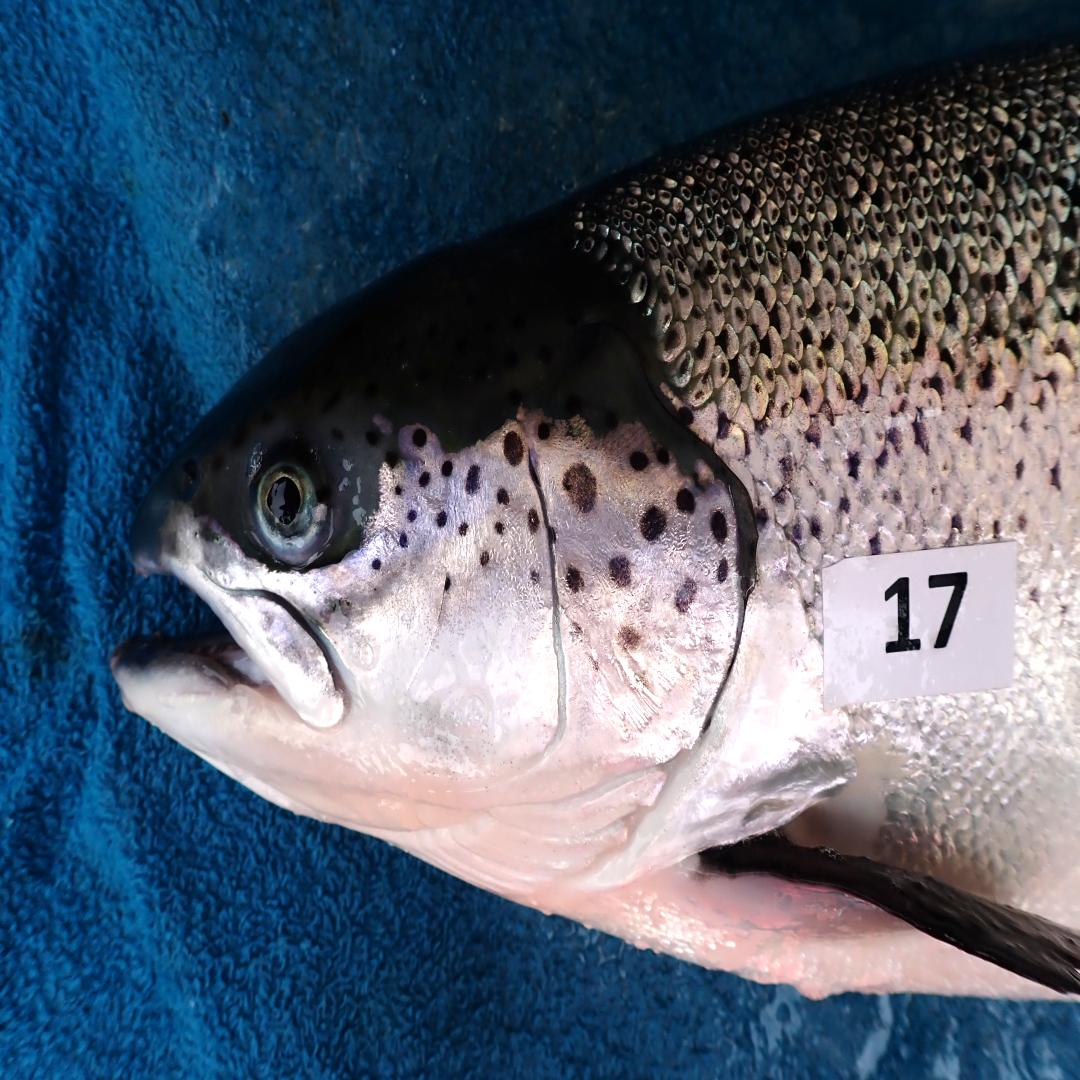roi: (339, 410, 742, 901)
